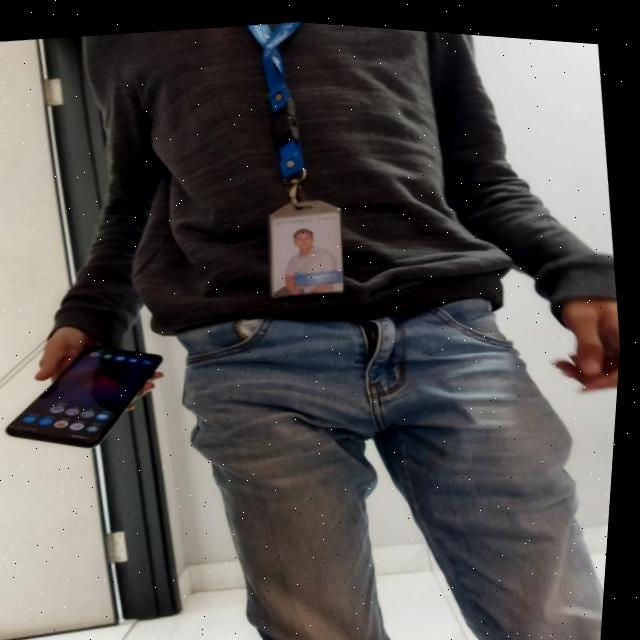id_card: (219, 14, 374, 303)
